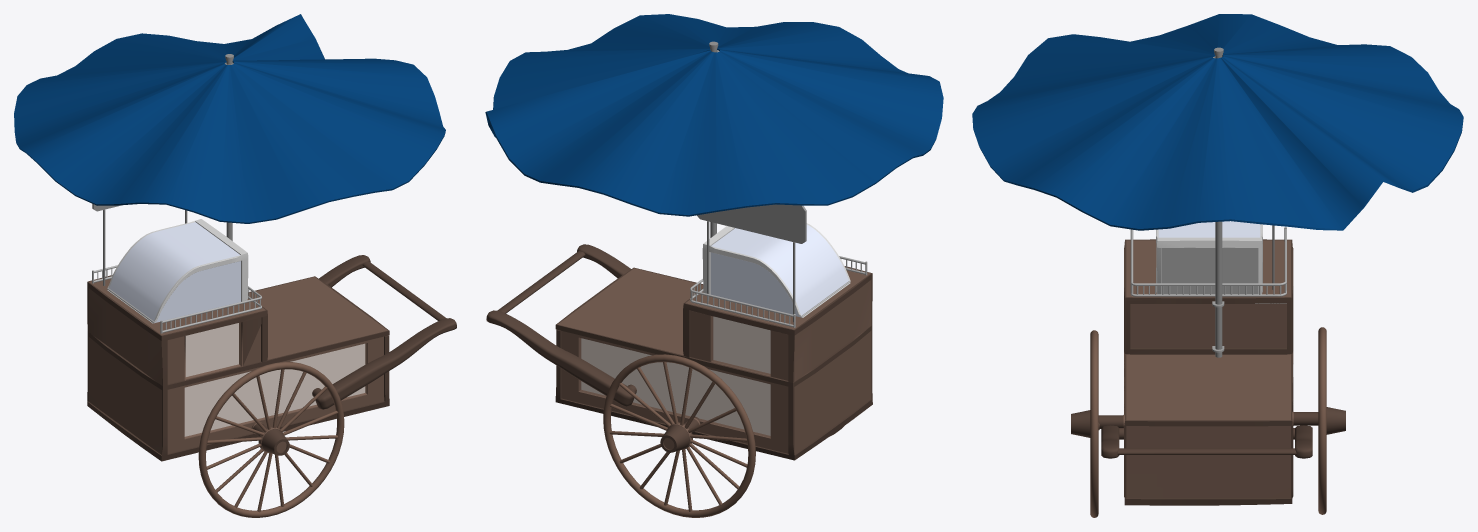
File: AW_FoodCart14_DF.fbx
3 renders of one model, left to right at view 1: azimuth 30°, elevation 25°; view 2: azimuth 150°, elevation 25°; view 3: azimuth 270°, elevation 25°, orthographic. The views are drawn at different scales.
Visible parts, largest first — view 1: polySurface220; view 2: polySurface220; view 3: polySurface220.
Part boxes in pixels (x1,y1,x2,y2): polySurface220: [14, 14, 456, 517]; polySurface220: [485, 14, 943, 517]; polySurface220: [972, 14, 1463, 517].
Bounding box in the file's own units: 2.73 × 2.86 × 2.73.
